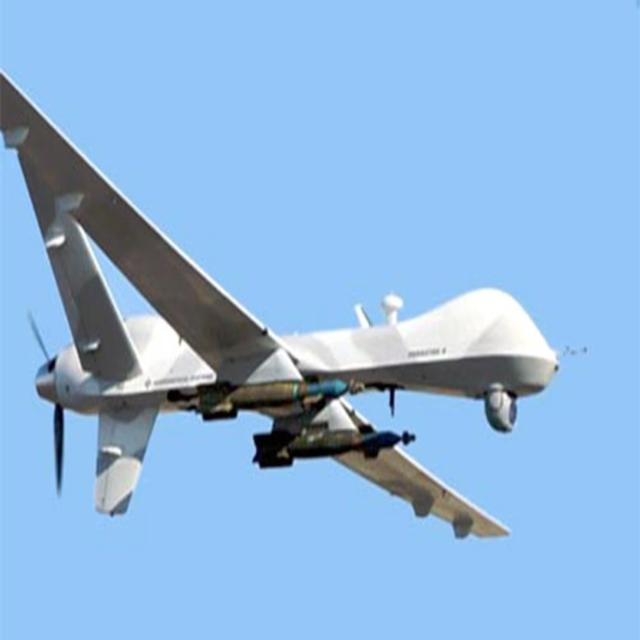MQ9: (0, 45, 601, 602)
